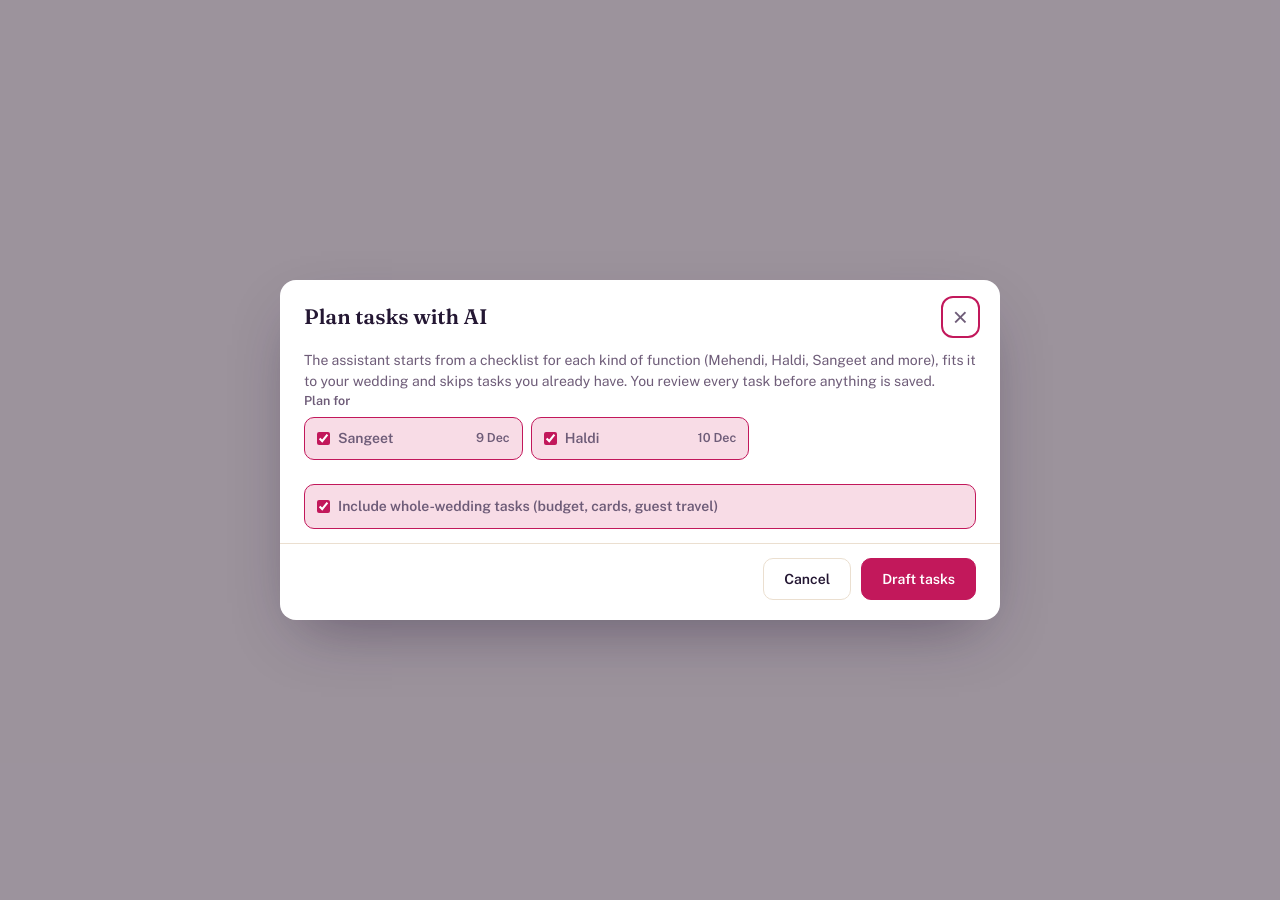
Test: Plan tasks with AI › shows why drafting failed
Click the button "Draft tasks" at (919, 579), box left=861, top=558, right=976, bottom=600
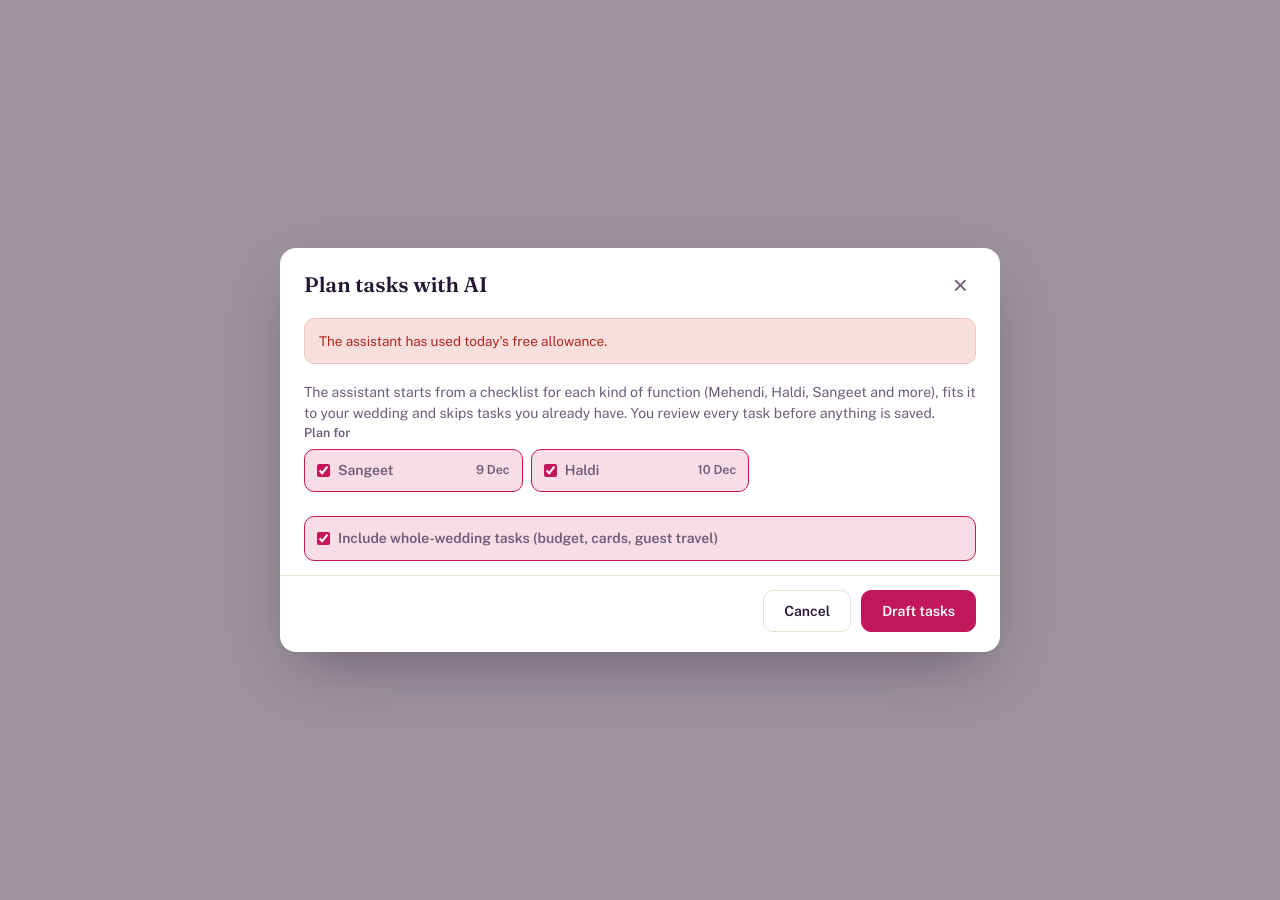
Expected: the message shows "free allowance", left=319, top=333, right=607, bottom=349
